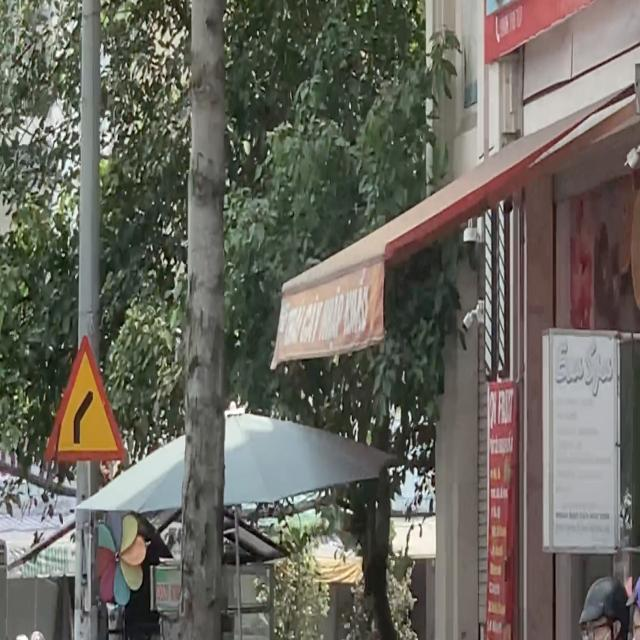Nguy hiem: (44, 332, 130, 463)
